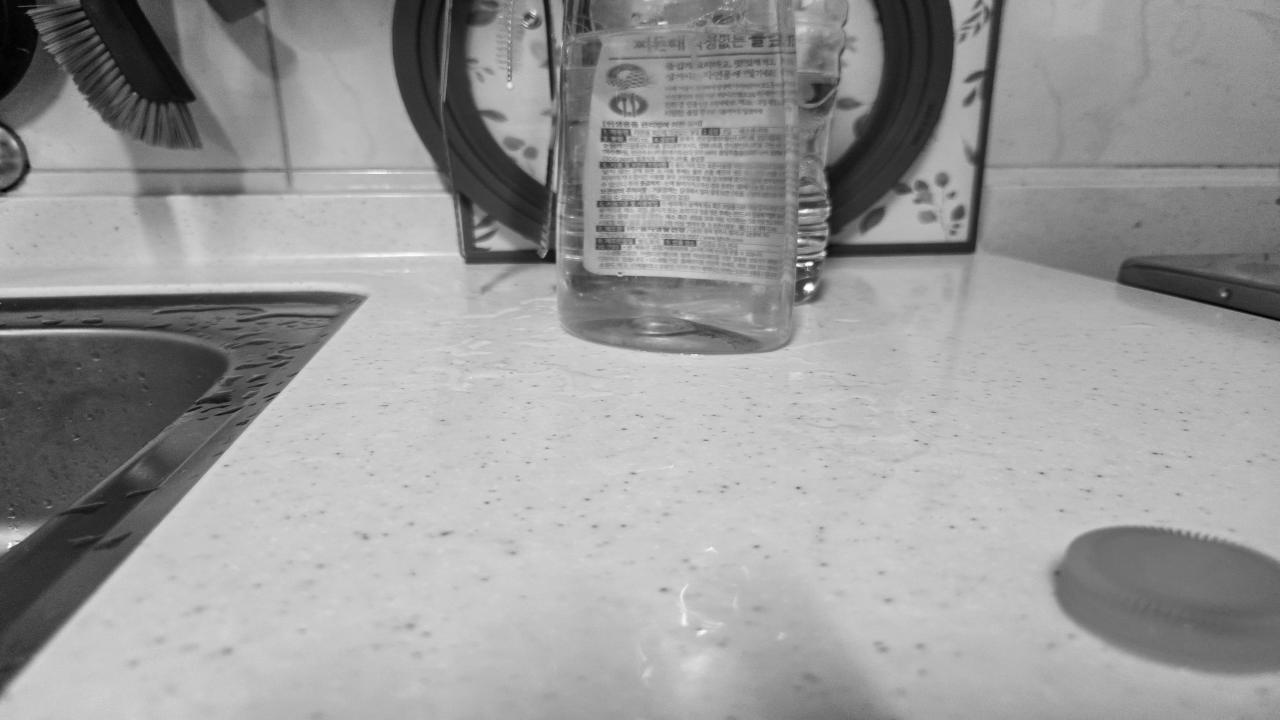bottle_cap: (1061, 528, 1280, 670)
